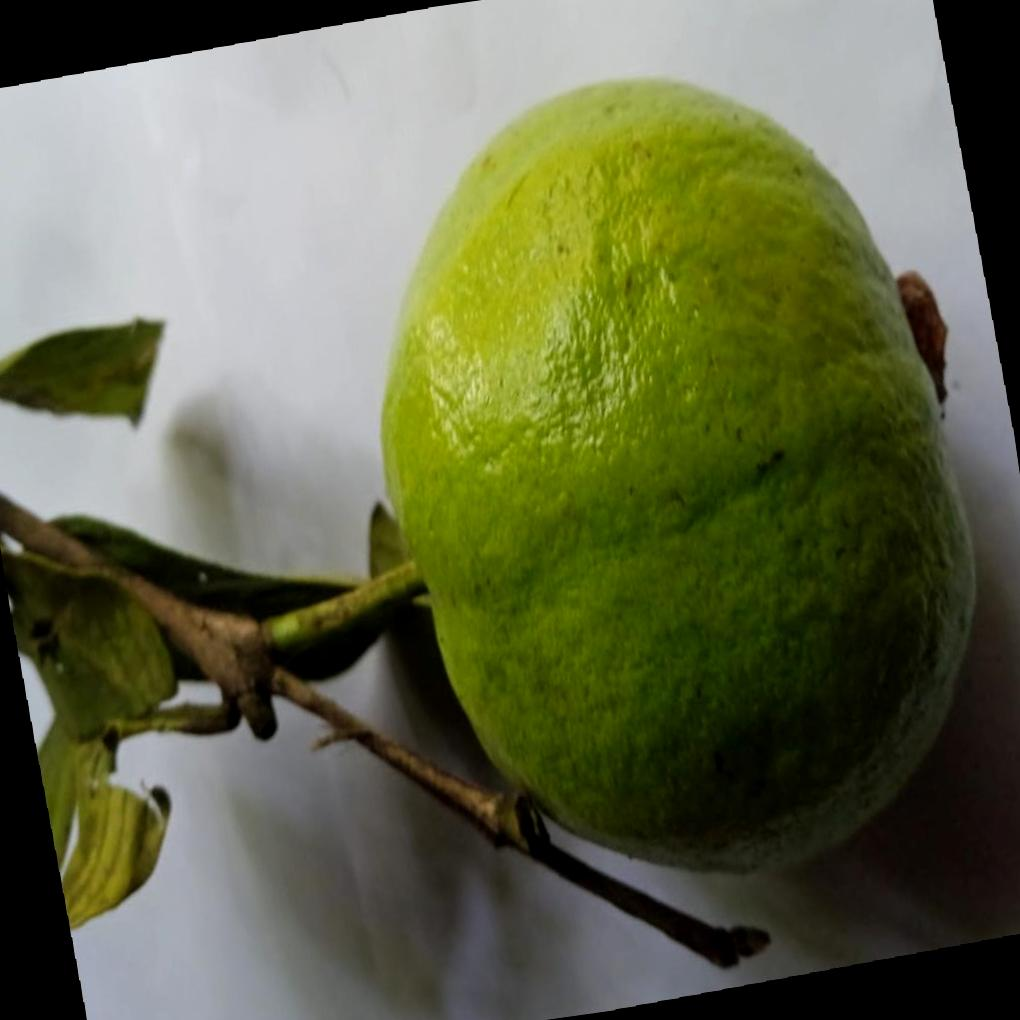FreshGuava: (381, 75, 985, 877)
